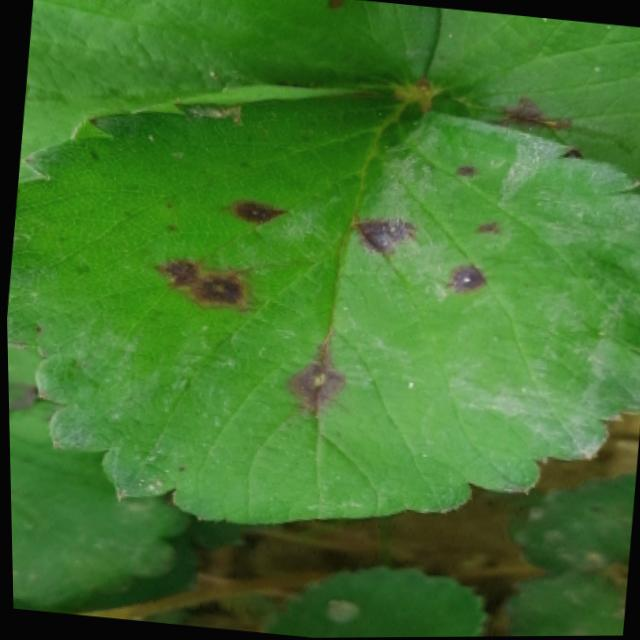Leaf Spot: (5, 93, 640, 526), (16, 0, 440, 184), (413, 8, 640, 180), (495, 565, 624, 637)
